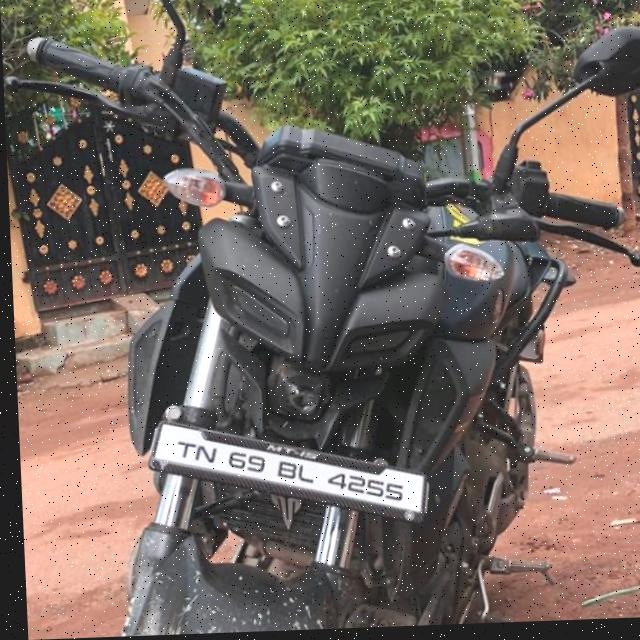plate: (141, 412, 426, 533)
